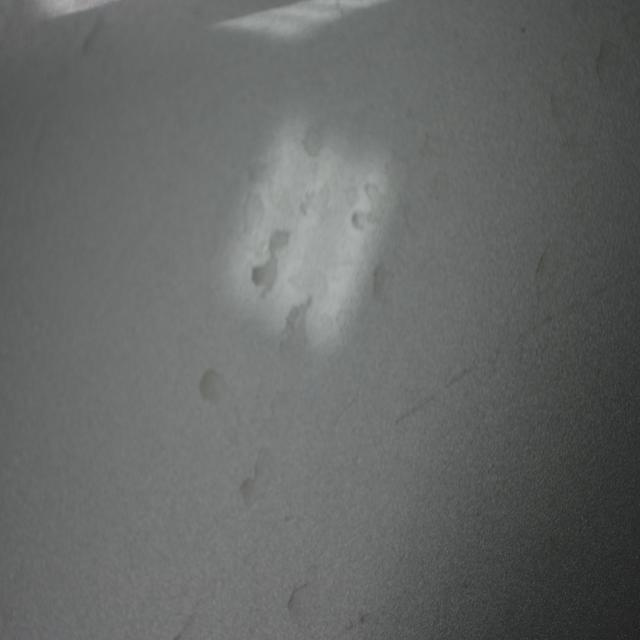dirt: (354, 602, 372, 636)
water marks: (299, 177, 357, 288), (282, 544, 324, 631), (250, 221, 293, 296), (242, 150, 284, 225), (528, 233, 568, 310), (236, 442, 275, 514), (279, 290, 318, 360), (350, 175, 389, 231), (75, 6, 113, 61), (369, 258, 407, 310), (593, 32, 618, 88), (543, 77, 569, 129), (198, 361, 228, 406), (300, 116, 325, 164)
